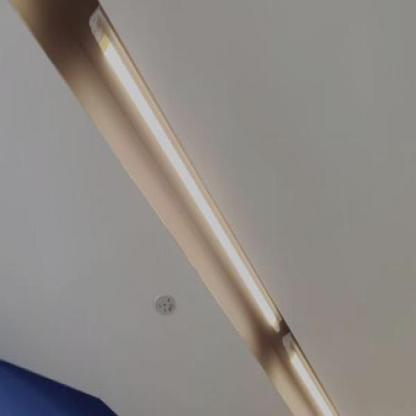light_on: (85, 3, 284, 334), (282, 331, 355, 415)
